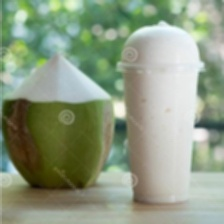glass: (112, 18, 212, 208)
